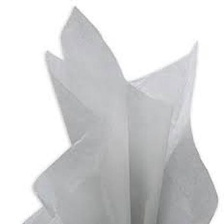tissue: (14, 0, 224, 224)
